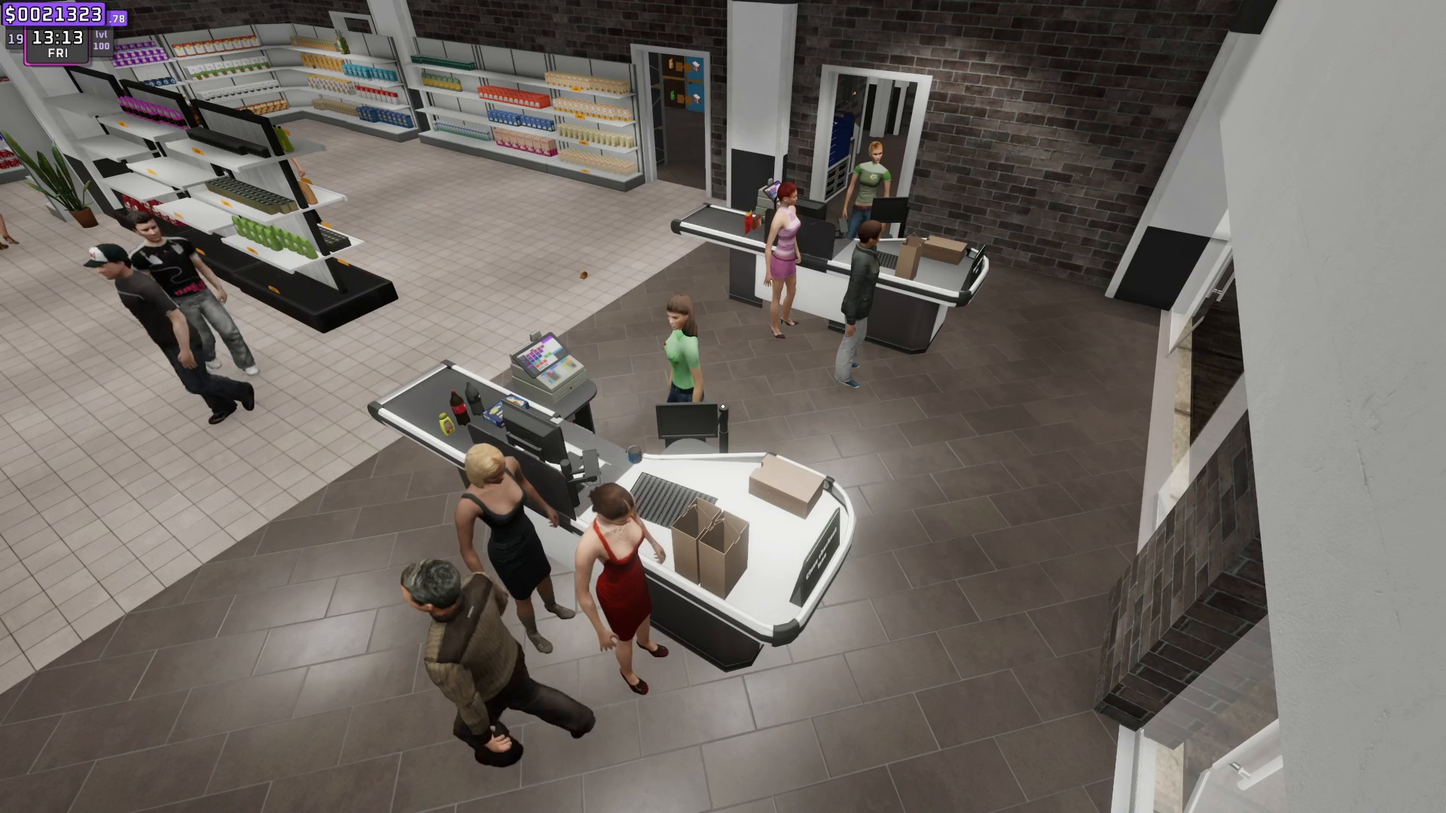Client: (401, 571, 581, 760), (461, 451, 574, 640), (577, 485, 671, 689), (839, 223, 893, 406), (768, 183, 804, 330)
Employee: (655, 297, 710, 399), (852, 136, 886, 218)
